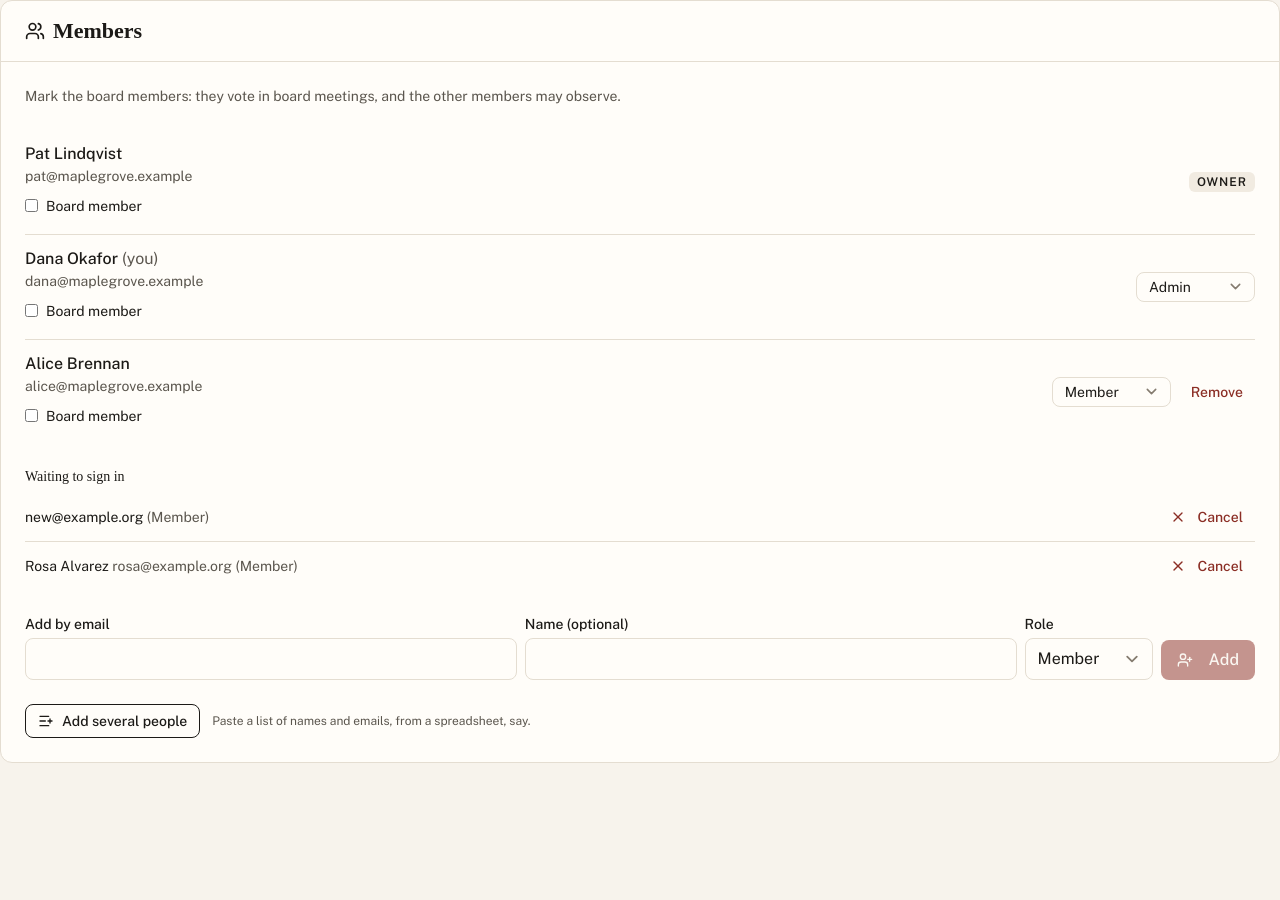
it: MembersCard › lets an admin change roles up to admin, but not touch an owner
Select "Secretary" in the dropdown named "Role of Alice Brennan" at (1111, 392), box 1052,376 -> 1171,406
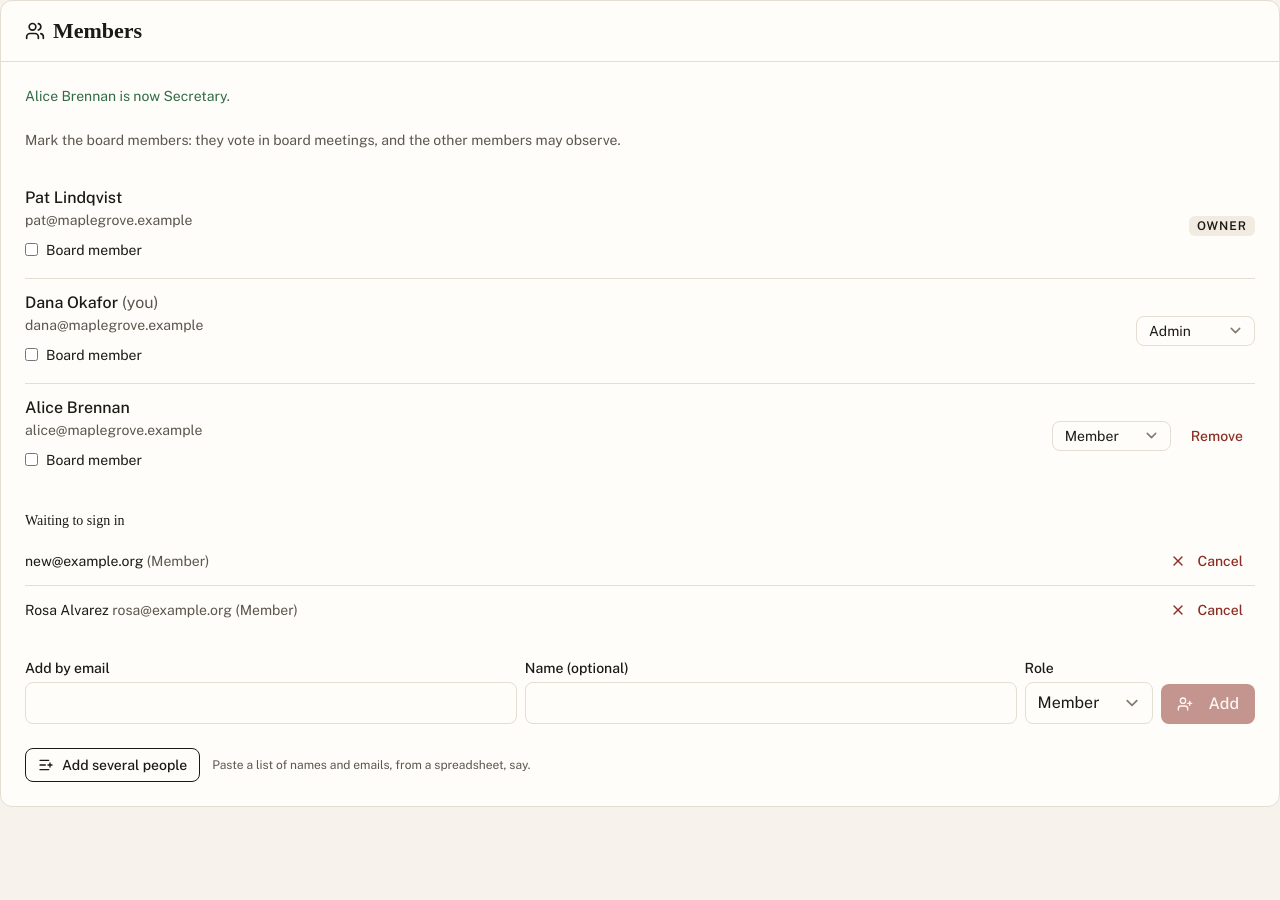
Now the text "Alice Brennan is now Secretary." is shown, box 25,88 -> 230,104
